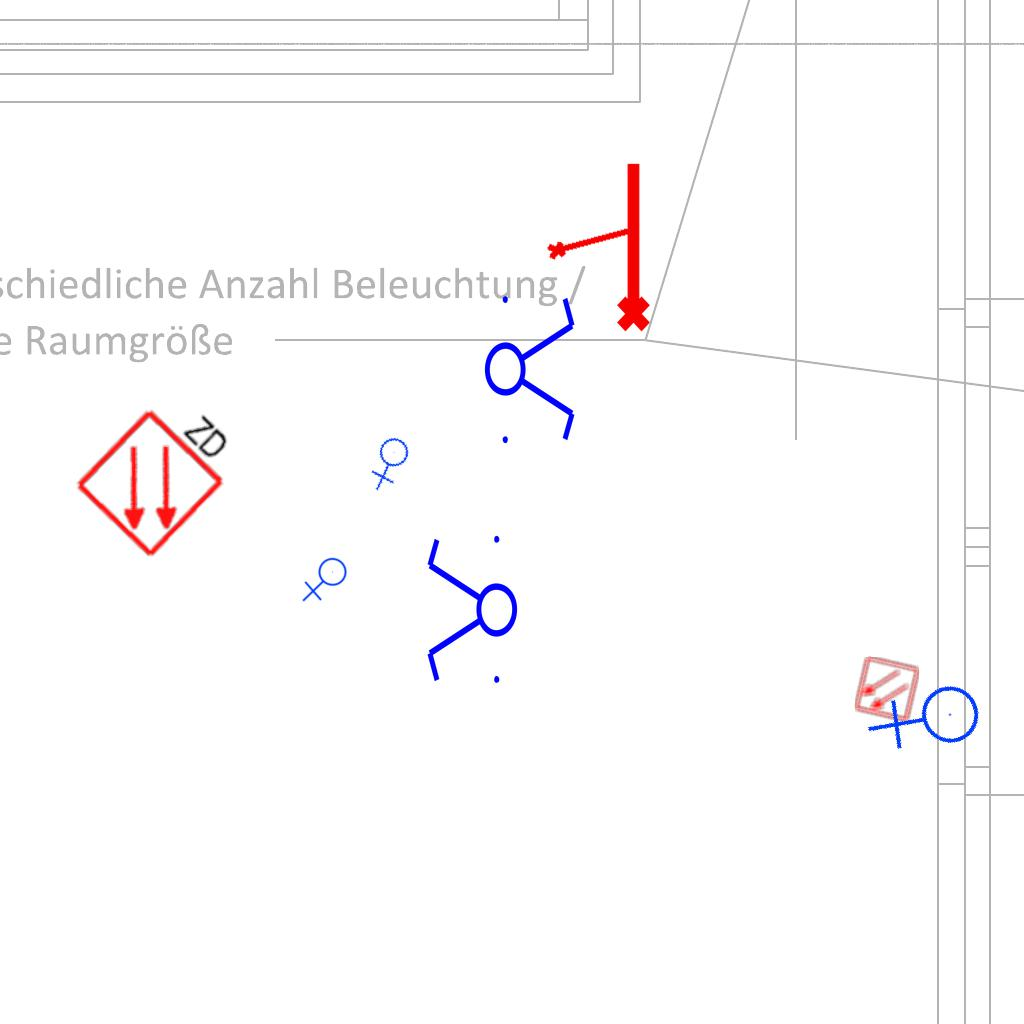ASR_Ansaugoeffnung: (608, 158, 654, 334), (543, 218, 635, 263)
Elektroanschluss_allgemein_230V_Geraeteanschlussdose_230V: (863, 655, 998, 789), (360, 431, 423, 494), (302, 557, 351, 604)
RMO_Rauchmelder_optischer: (853, 655, 921, 723)
Serienschalter: (483, 284, 579, 452), (423, 527, 519, 695)
ZD_Melder_in_Zwischendecke_mit_Revisionsoeffnung_mind_40_x_40_cm: (69, 375, 255, 562)
